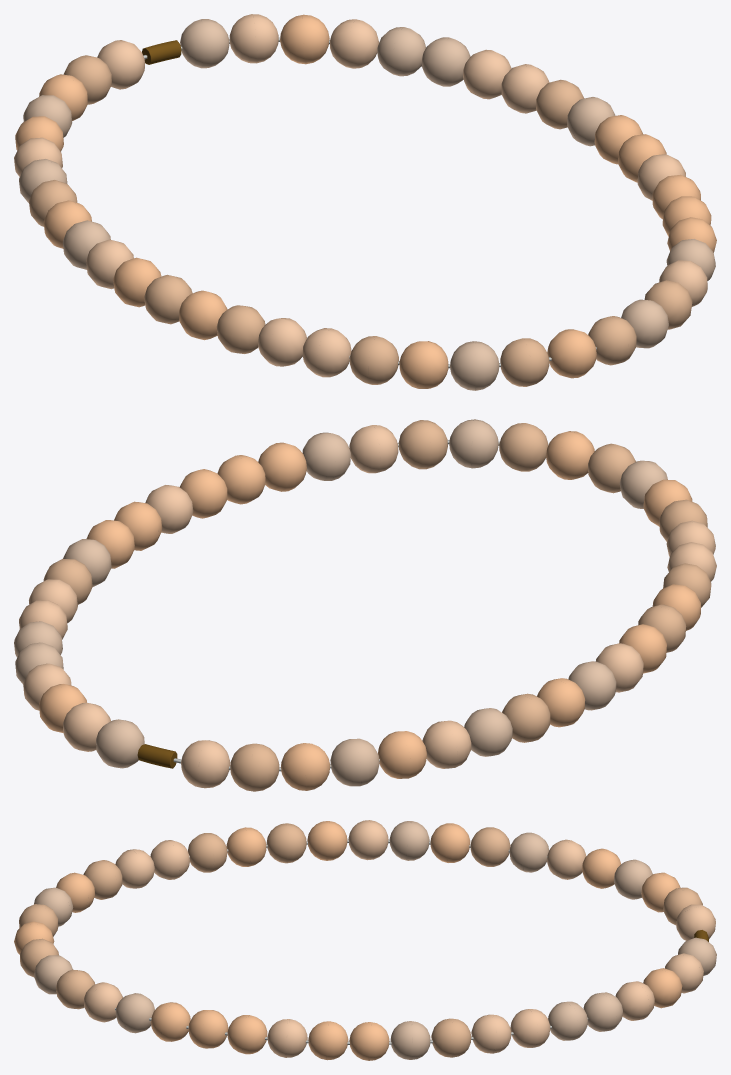
Rendered from Pearl.glb.
3 views of the same model, one above another, from view 1: azimuth 30°, elevation 25°; view 2: azimuth 150°, elevation 25°; view 3: azimuth 270°, elevation 25° (orthographic). The views are drawn at different scales.
Parts seen in each view (by area): view 1: String_Of_Pearls.1; view 2: String_Of_Pearls.1; view 3: String_Of_Pearls.1.
Boxes of the visible parts, box(x1,y1,x2,y2) form: String_Of_Pearls.1: box(14, 14, 716, 390); String_Of_Pearls.1: box(14, 419, 716, 791); String_Of_Pearls.1: box(14, 820, 716, 1060).
Size of the model in its own units: 0.1729 by 0.0137 by 0.2354.
1 material, 1 textured.
